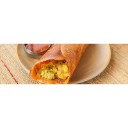dosa: (31, 43, 85, 85)
